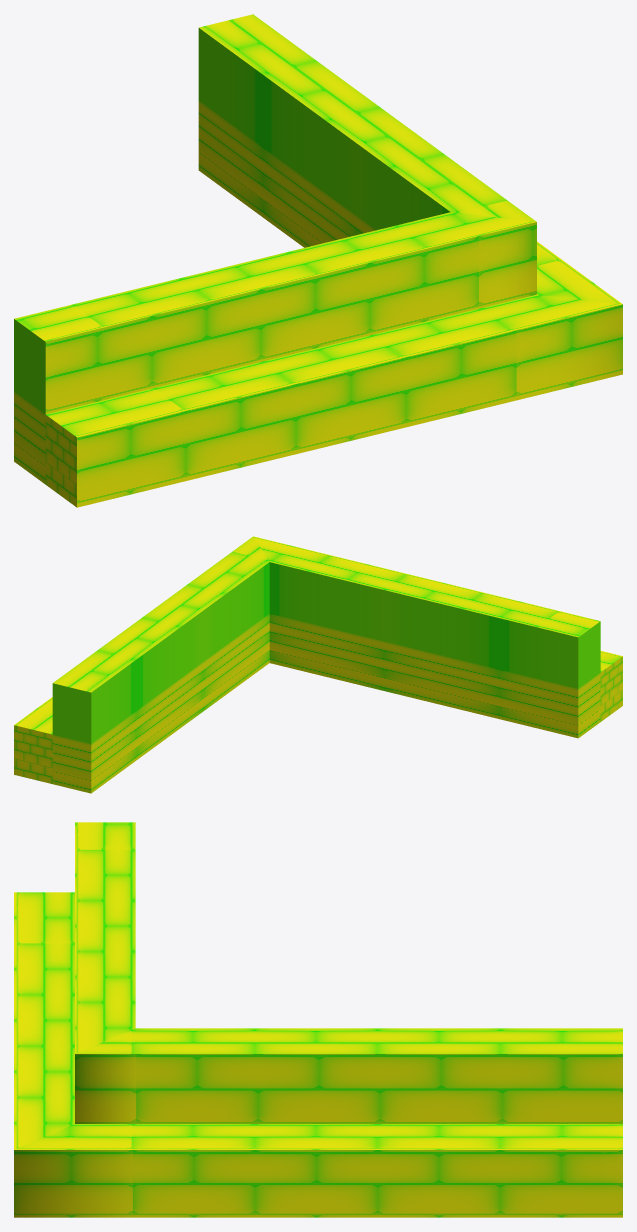
The model's file is Stair_corner.fbx.
3 renders of one model, top to bottom at view 1: azimuth 30°, elevation 25°; view 2: azimuth 150°, elevation 25°; view 3: azimuth 270°, elevation 25°, orthographic. The views are drawn at different scales.
Visible parts, largest first — view 1: Corner_piece; view 2: Corner_piece; view 3: Corner_piece.
Part boxes in pixels (x1,y1,x2,y2): Corner_piece: (14, 14, 622, 507); Corner_piece: (14, 536, 622, 793); Corner_piece: (14, 822, 622, 1217).
Size of the model in its own units: 250 by 62.5 by 250.
